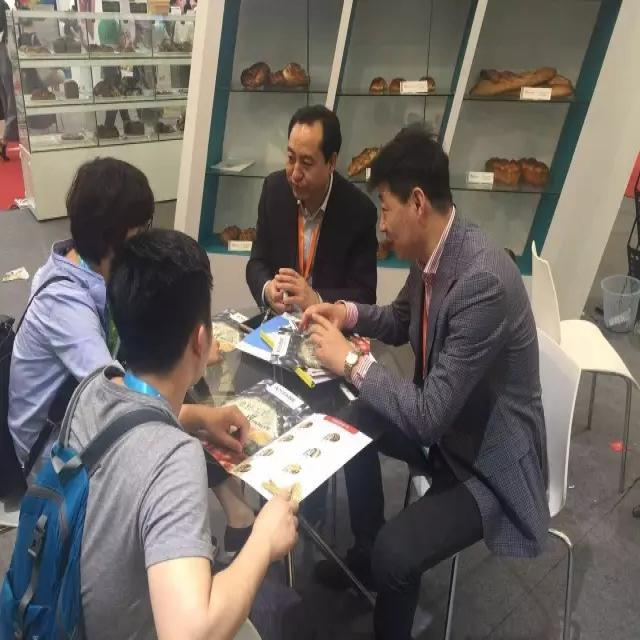body: (298, 118, 553, 640), (0, 228, 301, 640), (0, 152, 223, 513), (243, 100, 379, 315), (86, 8, 142, 140), (11, 9, 65, 140)
